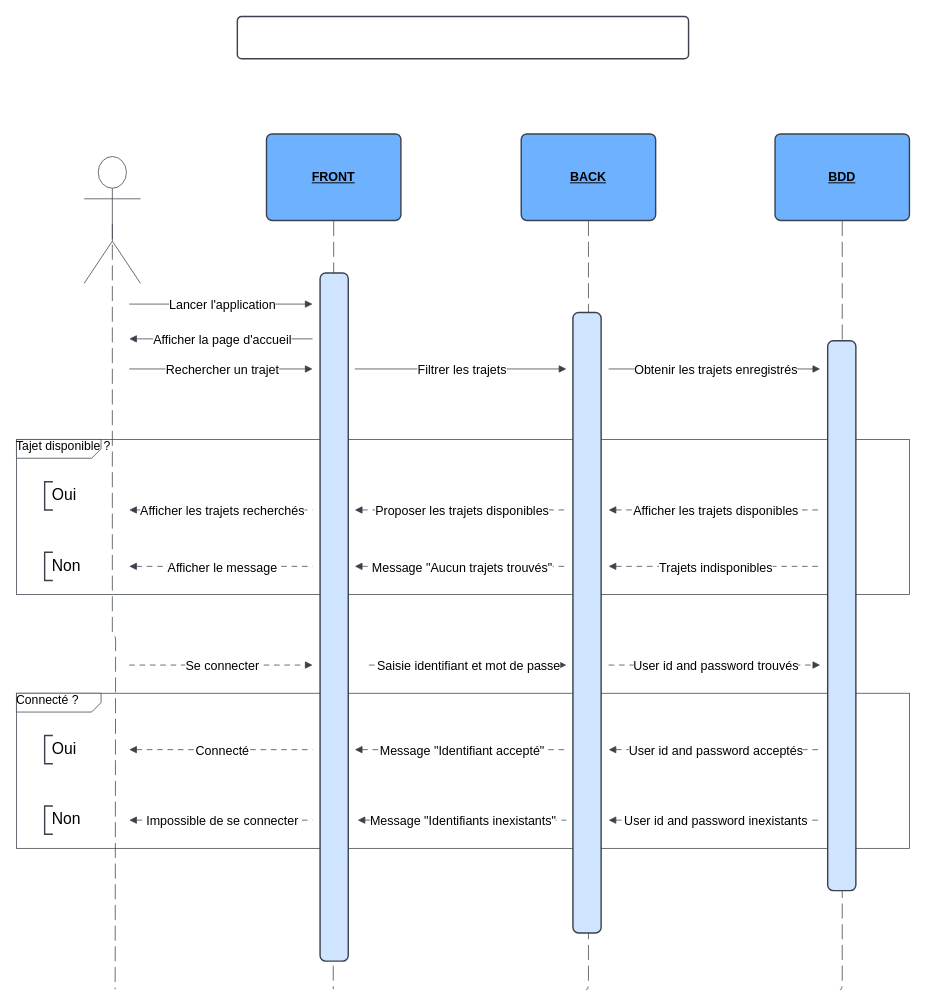
Some shapes in this 927 by 1008 pixel diagram are drawn without their labels. Here are the shapes that lost their labels. From the top down, the centre of each, then its label:
[462,37]: Diagramme de séquence EcoRide
[111,219]: Utilisateur
